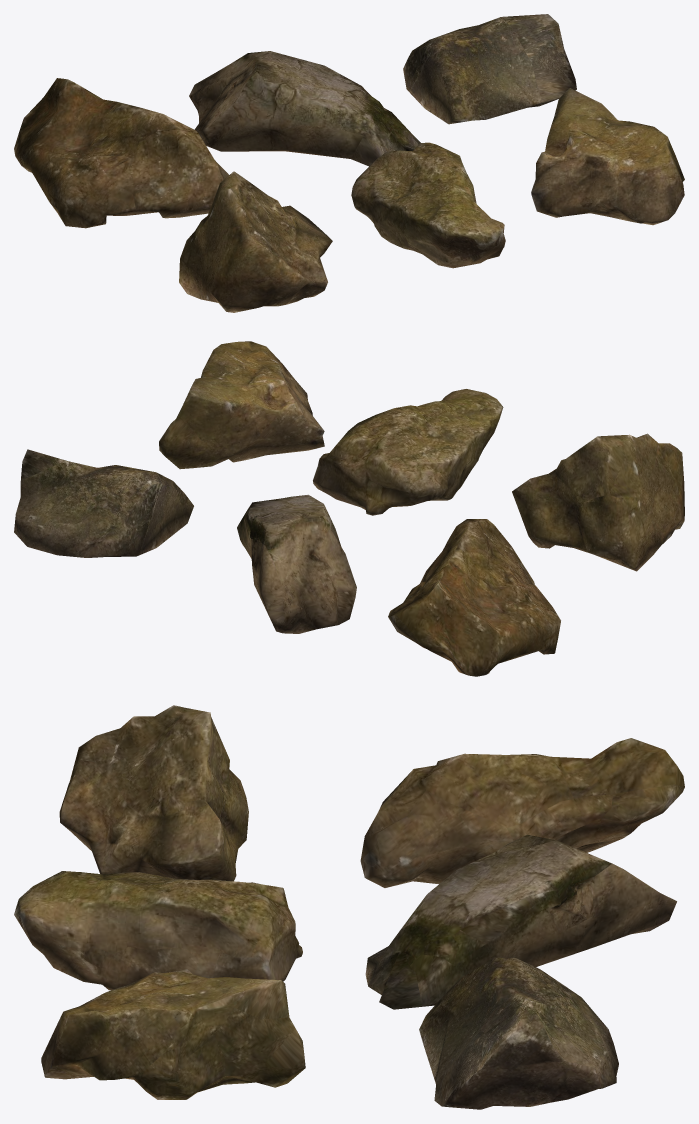
Rendered from rock_moss_set_01.glb.
3 renders of one model, top to bottom at view 1: azimuth 30°, elevation 25°; view 2: azimuth 150°, elevation 25°; view 3: azimuth 270°, elevation 25°, orthographic. The views are drawn at different scales.
Visible parts, largest first — view 1: rock_moss_set_01_rock01, rock_moss_set_01_rock02, rock_moss_set_01_rock06, rock_moss_set_01_rock04, rock_moss_set_01_rock03, rock_moss_set_01_rock05; view 2: rock_moss_set_01_rock04, rock_moss_set_01_rock01, rock_moss_set_01_rock05, rock_moss_set_01_rock03, rock_moss_set_01_rock06, rock_moss_set_01_rock02; view 3: rock_moss_set_01_rock01, rock_moss_set_01_rock02, rock_moss_set_01_rock05, rock_moss_set_01_rock04, rock_moss_set_01_rock06, rock_moss_set_01_rock03.
Part boxes in pixels (x1=…): rock_moss_set_01_rock01: x1=14, y1=78, x2=228, y2=228; rock_moss_set_01_rock02: x1=189, y1=51, x2=420, y2=166; rock_moss_set_01_rock06: x1=531, y1=88, x2=684, y2=225; rock_moss_set_01_rock04: x1=179, y1=171, x2=332, y2=312; rock_moss_set_01_rock03: x1=403, y1=14, x2=576, y2=124; rock_moss_set_01_rock05: x1=351, y1=142, x2=505, y2=268; rock_moss_set_01_rock04: x1=512, y1=433, x2=684, y2=571; rock_moss_set_01_rock01: x1=388, y1=519, x2=560, y2=676; rock_moss_set_01_rock05: x1=313, y1=389, x2=503, y2=515; rock_moss_set_01_rock03: x1=14, y1=449, x2=193, y2=557; rock_moss_set_01_rock06: x1=159, y1=341, x2=324, y2=469; rock_moss_set_01_rock02: x1=237, y1=494, x2=356, y2=633; rock_moss_set_01_rock01: x1=360, y1=738, x2=684, y2=887; rock_moss_set_01_rock02: x1=365, y1=834, x2=676, y2=1009; rock_moss_set_01_rock05: x1=14, y1=871, x2=302, y2=990; rock_moss_set_01_rock04: x1=59, y1=705, x2=248, y2=881; rock_moss_set_01_rock06: x1=41, y1=969, x2=305, y2=1099; rock_moss_set_01_rock03: x1=419, y1=957, x2=618, y2=1109.
Bounding box in the file's own units: 7.97 × 1.76 × 6.94.
Materials: 1 (1 with a texture image).
